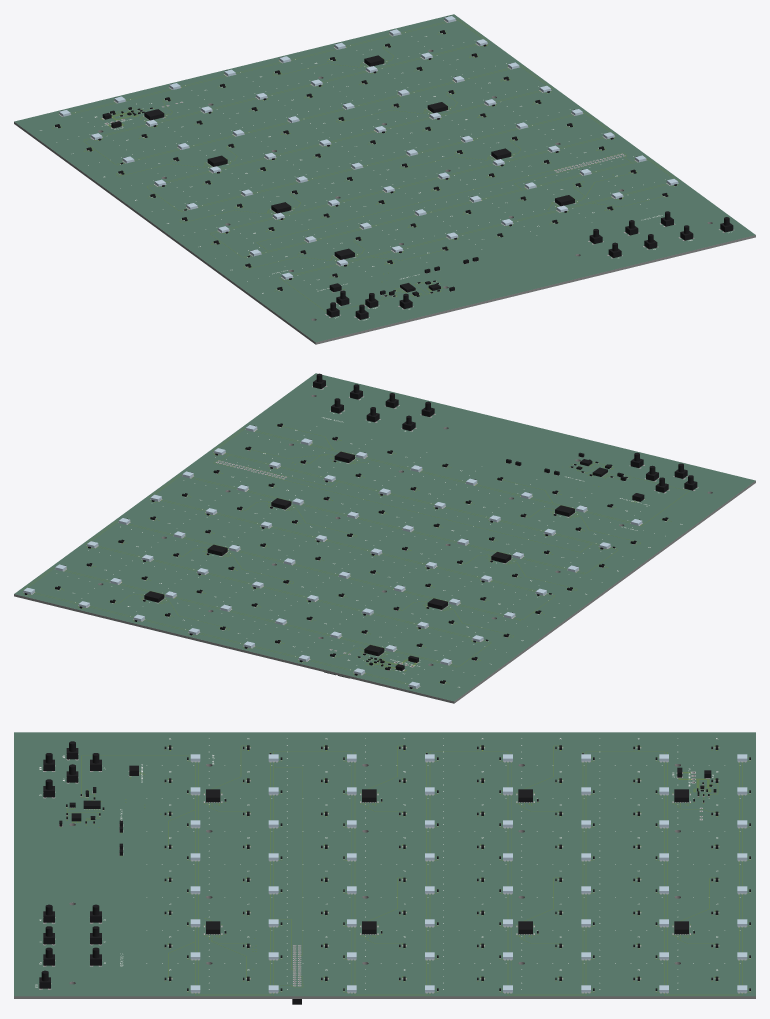
The model's file is chess-board.glb.
3 renders of one model, top to bottom at view 1: azimuth 30°, elevation 25°; view 2: azimuth 150°, elevation 25°; view 3: azimuth 270°, elevation 25°, orthographic. The views are drawn at different scales.
Parts seen in each view (by area): view 1: =>[0:1:1:35], =>[0:1:1:37], =>[0:1:1:32], =>[0:1:1:34]; view 2: =>[0:1:1:35], =>[0:1:1:37], =>[0:1:1:32], =>[0:1:1:34]; view 3: =>[0:1:1:35], =>[0:1:1:37], =>[0:1:1:32], =>[0:1:1:34].
Part boxes in pixels (x1,y1,x2,y2): =>[0:1:1:35]: (14,14,755,342); =>[0:1:1:37]: (14,15,755,344); =>[0:1:1:32]: (54,20,733,320); =>[0:1:1:34]: (40,32,732,320); =>[0:1:1:35]: (14,373,755,701); =>[0:1:1:37]: (14,374,755,703); =>[0:1:1:32]: (23,385,698,688); =>[0:1:1:34]: (56,413,682,687); =>[0:1:1:35]: (14,732,755,996); =>[0:1:1:37]: (14,733,755,998); =>[0:1:1:32]: (39,747,750,993); =>[0:1:1:34]: (35,738,740,989).
Size of the model in its own units: 0.32 by 0.0227 by 0.38.
